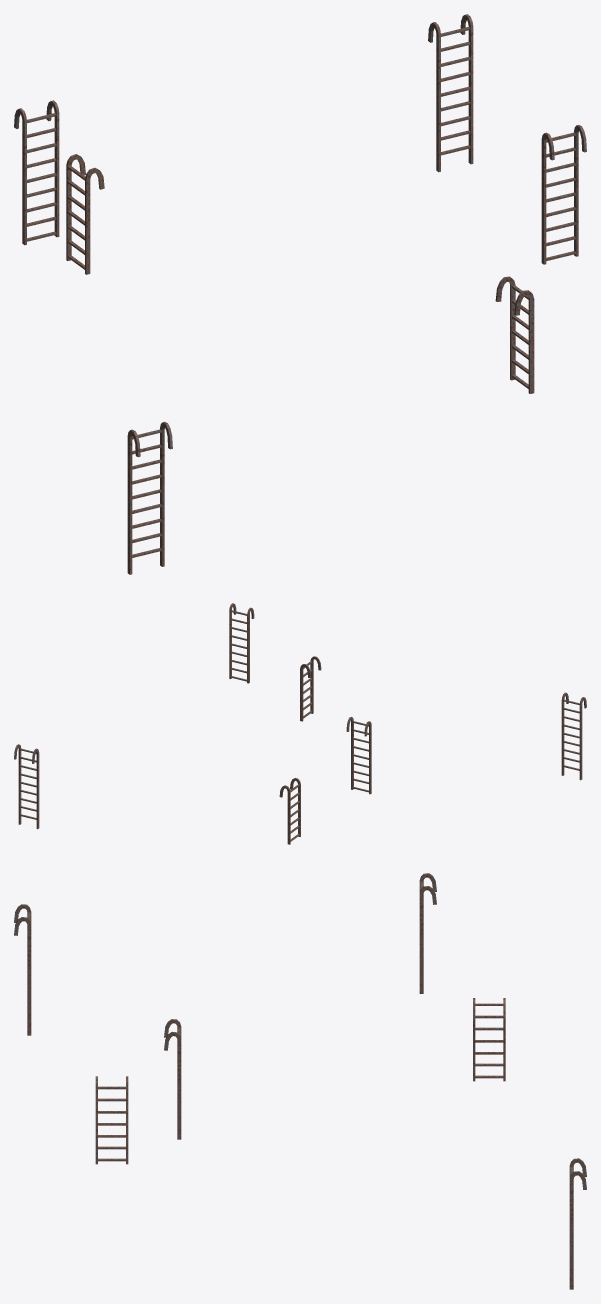
Rendered from SM_NeoLD_11_Ladder_00.fbx.
The picture shows the model from 3 angles, top to bottom: view 1: azimuth 30°, elevation 25°; view 2: azimuth 150°, elevation 25°; view 3: azimuth 270°, elevation 25°; orthographic projection. The views are drawn at different scales.
Visible parts, largest first — view 1: SM_NeoLD_11_Ladder_00; view 2: SM_NeoLD_11_Ladder_00; view 3: SM_NeoLD_11_Ladder_00.
Boxes of the visible parts, left/top/right/bottom form: SM_NeoLD_11_Ladder_00: left=14, top=14, right=586, bottom=574; SM_NeoLD_11_Ladder_00: left=14, top=603, right=586, bottom=844; SM_NeoLD_11_Ladder_00: left=14, top=873, right=586, bottom=1289.
Bounding box in the file's own units: 2908 × 1027 × 2628.
